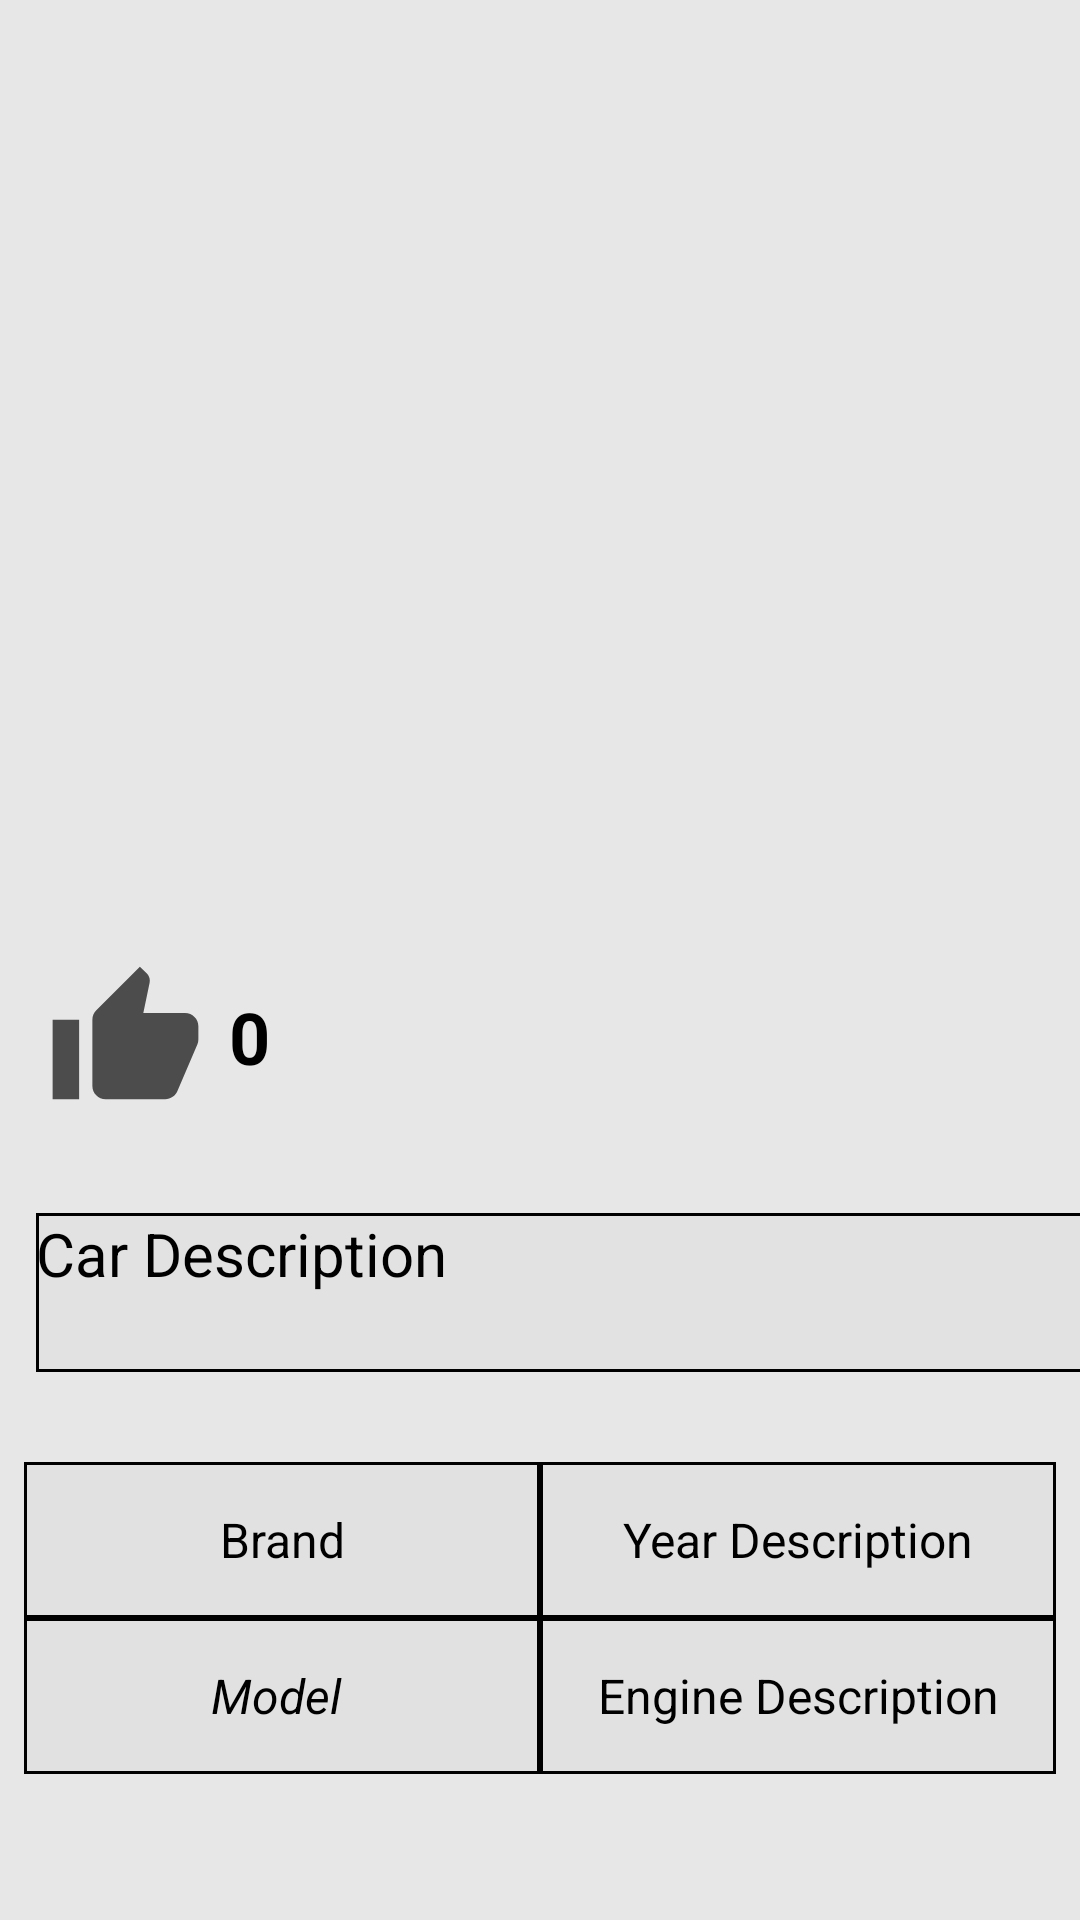

Where icons sit on this 1080×1920 app screen, as (x1, y1, x2, y2):
thumb up: (52, 967, 199, 1100)
